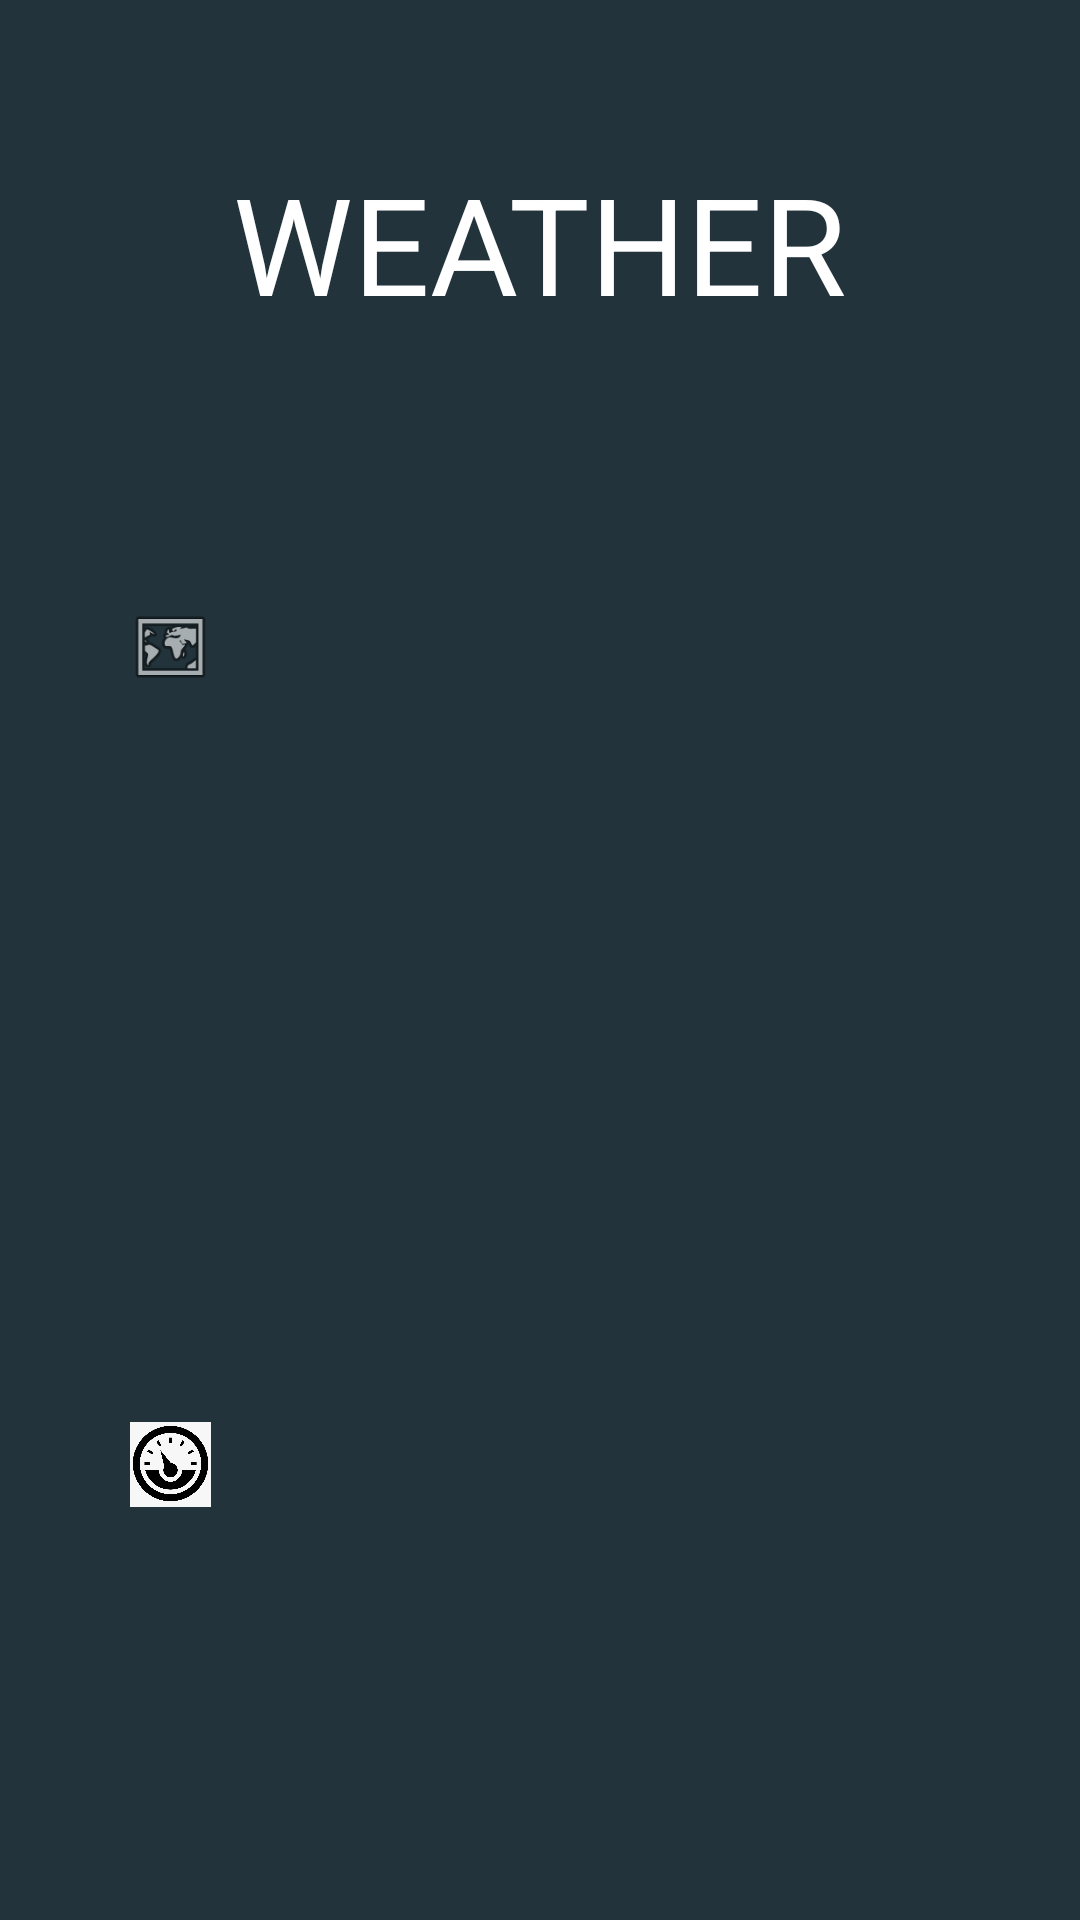

Named icons in this screenshot (1080 × 1920) and their bounding boxes, region(x1, y1, x2, y2):
mapmode: region(137, 618, 204, 676)
press: region(130, 1422, 211, 1507)
